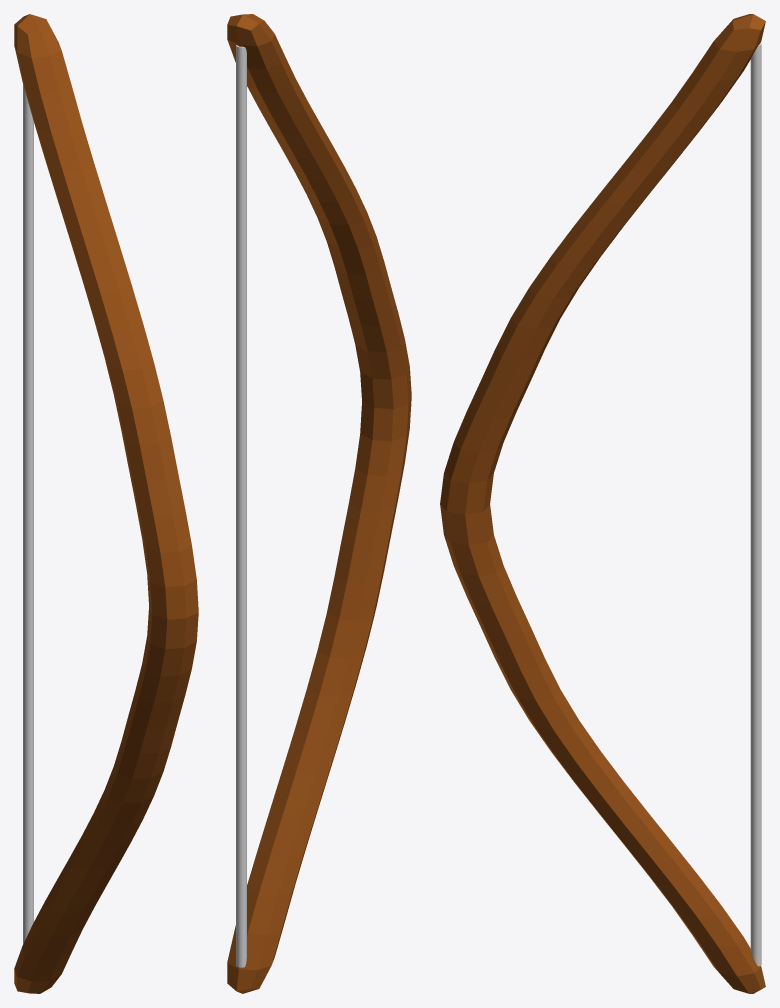
File: Bow.fbx
3 views of the same model, side by side, from view 1: azimuth 30°, elevation 25°; view 2: azimuth 150°, elevation 25°; view 3: azimuth 270°, elevation 25° (orthographic).
Parts seen in each view (by area): view 1: Cube; view 2: Cube; view 3: Cube.
Part boxes in pixels (x1,y1,x2,y2): Cube: [14, 14, 198, 993]; Cube: [227, 14, 411, 993]; Cube: [440, 14, 765, 993].
Size of the model in its own units: 9.17 by 198 by 59.68.
